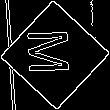M_E: (29, 31, 81, 79)
